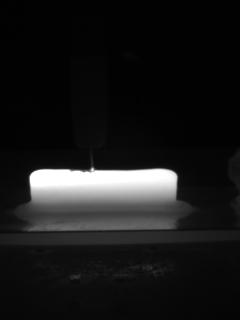tip_wire_left: (74, 142, 94, 171)
tip_wire_right: (90, 142, 106, 171)
